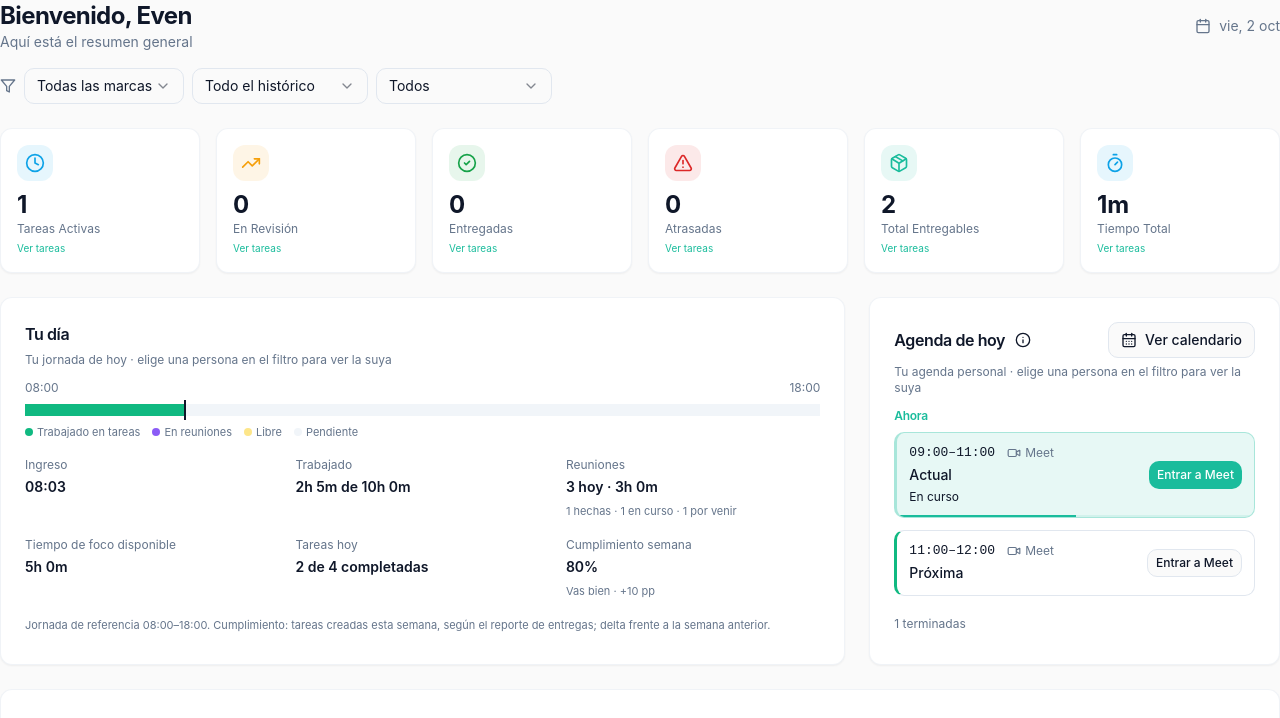
Dashboard · consultar las tareas de los indicadores › ignora una respuesta vieja después de cambiar de usuario
Expected: the text "Tareas Activas" is shown, [17,221,100,236]
Click the button with aria-label "Ver tareas: Tareas Activas" at (100, 200), box [1,129,199,272]
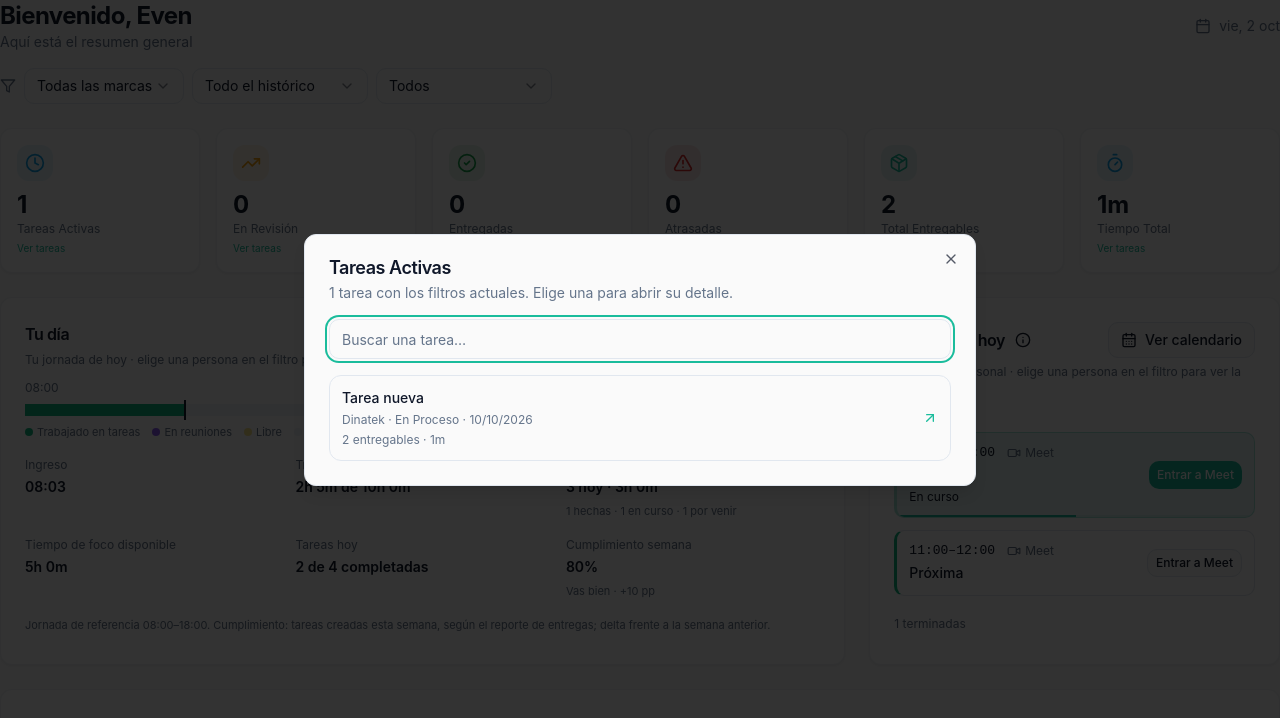
Expected: the dialog does not show "Tarea activa", [304,234,976,486]
Now the dialog shows "Tarea nueva", box [329,375,951,461]
